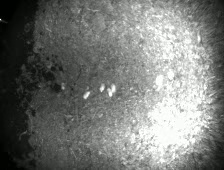corn: (153, 72, 166, 87), (108, 81, 118, 94), (97, 80, 106, 93), (81, 90, 92, 100), (105, 86, 114, 98), (59, 80, 66, 91)
